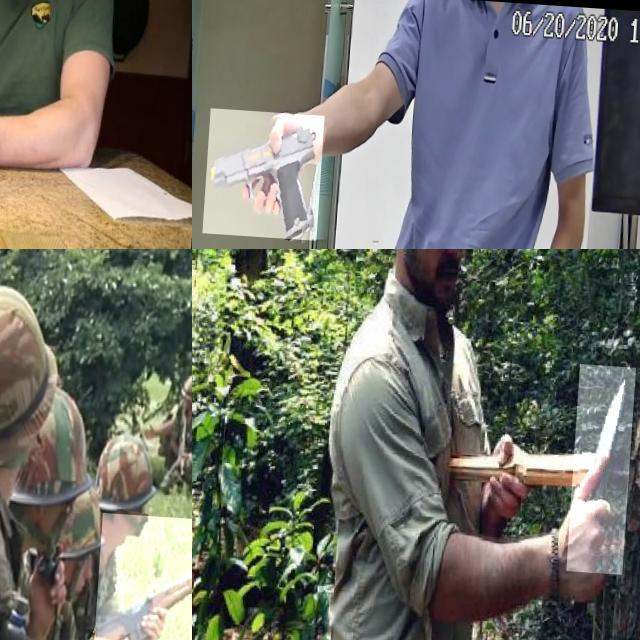-: (572, 358, 640, 568), (0, 0, 38, 151), (0, 0, 30, 113)
gun-knife-thesis - v11 Yolov5 augmented: (206, 106, 326, 238), (99, 508, 192, 640)
